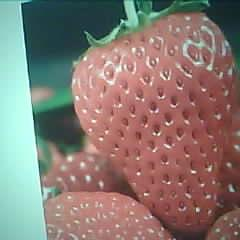straw-ripe: (72, 13, 237, 231)
